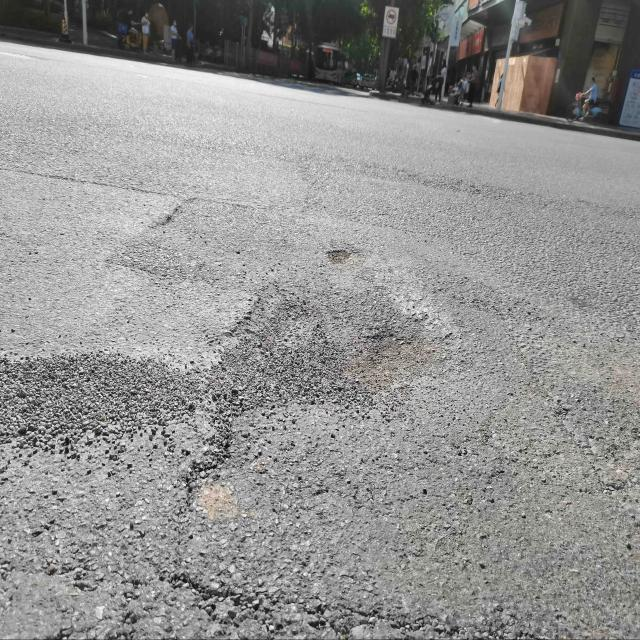Pothole: (323, 244, 359, 274)
